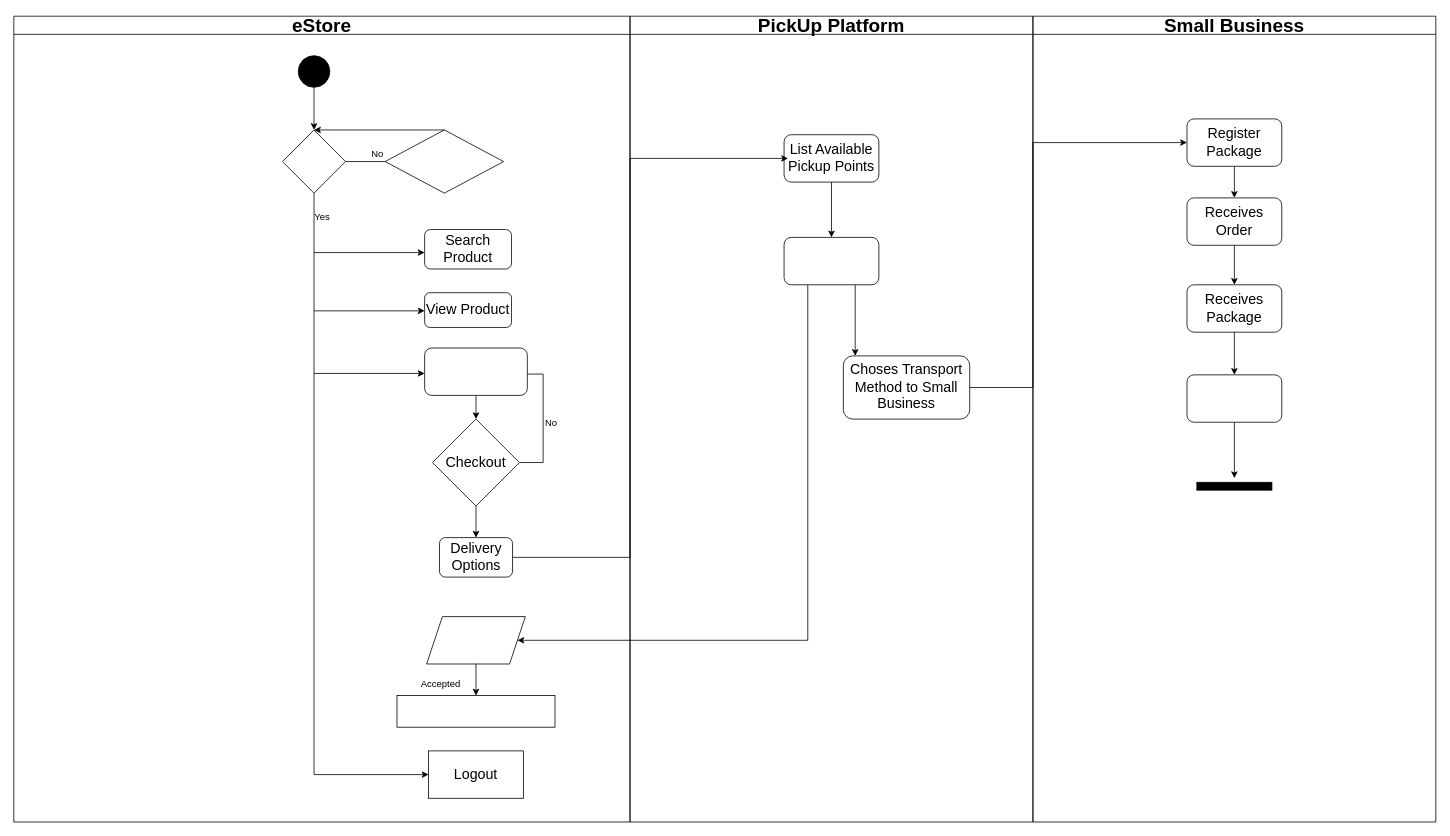
This 1450x836 diagram has some shape labels left out. Each missing label, with the centre of its shape:
Buy Product and Add to Cart: (x=475, y=371)
Chose Pickup Point: (x=831, y=261)
Deliveries Package: (x=1234, y=398)
Login: (x=314, y=161)
Order Placed: (x=475, y=711)
Payment Details: (x=475, y=640)
Register: (x=444, y=161)
